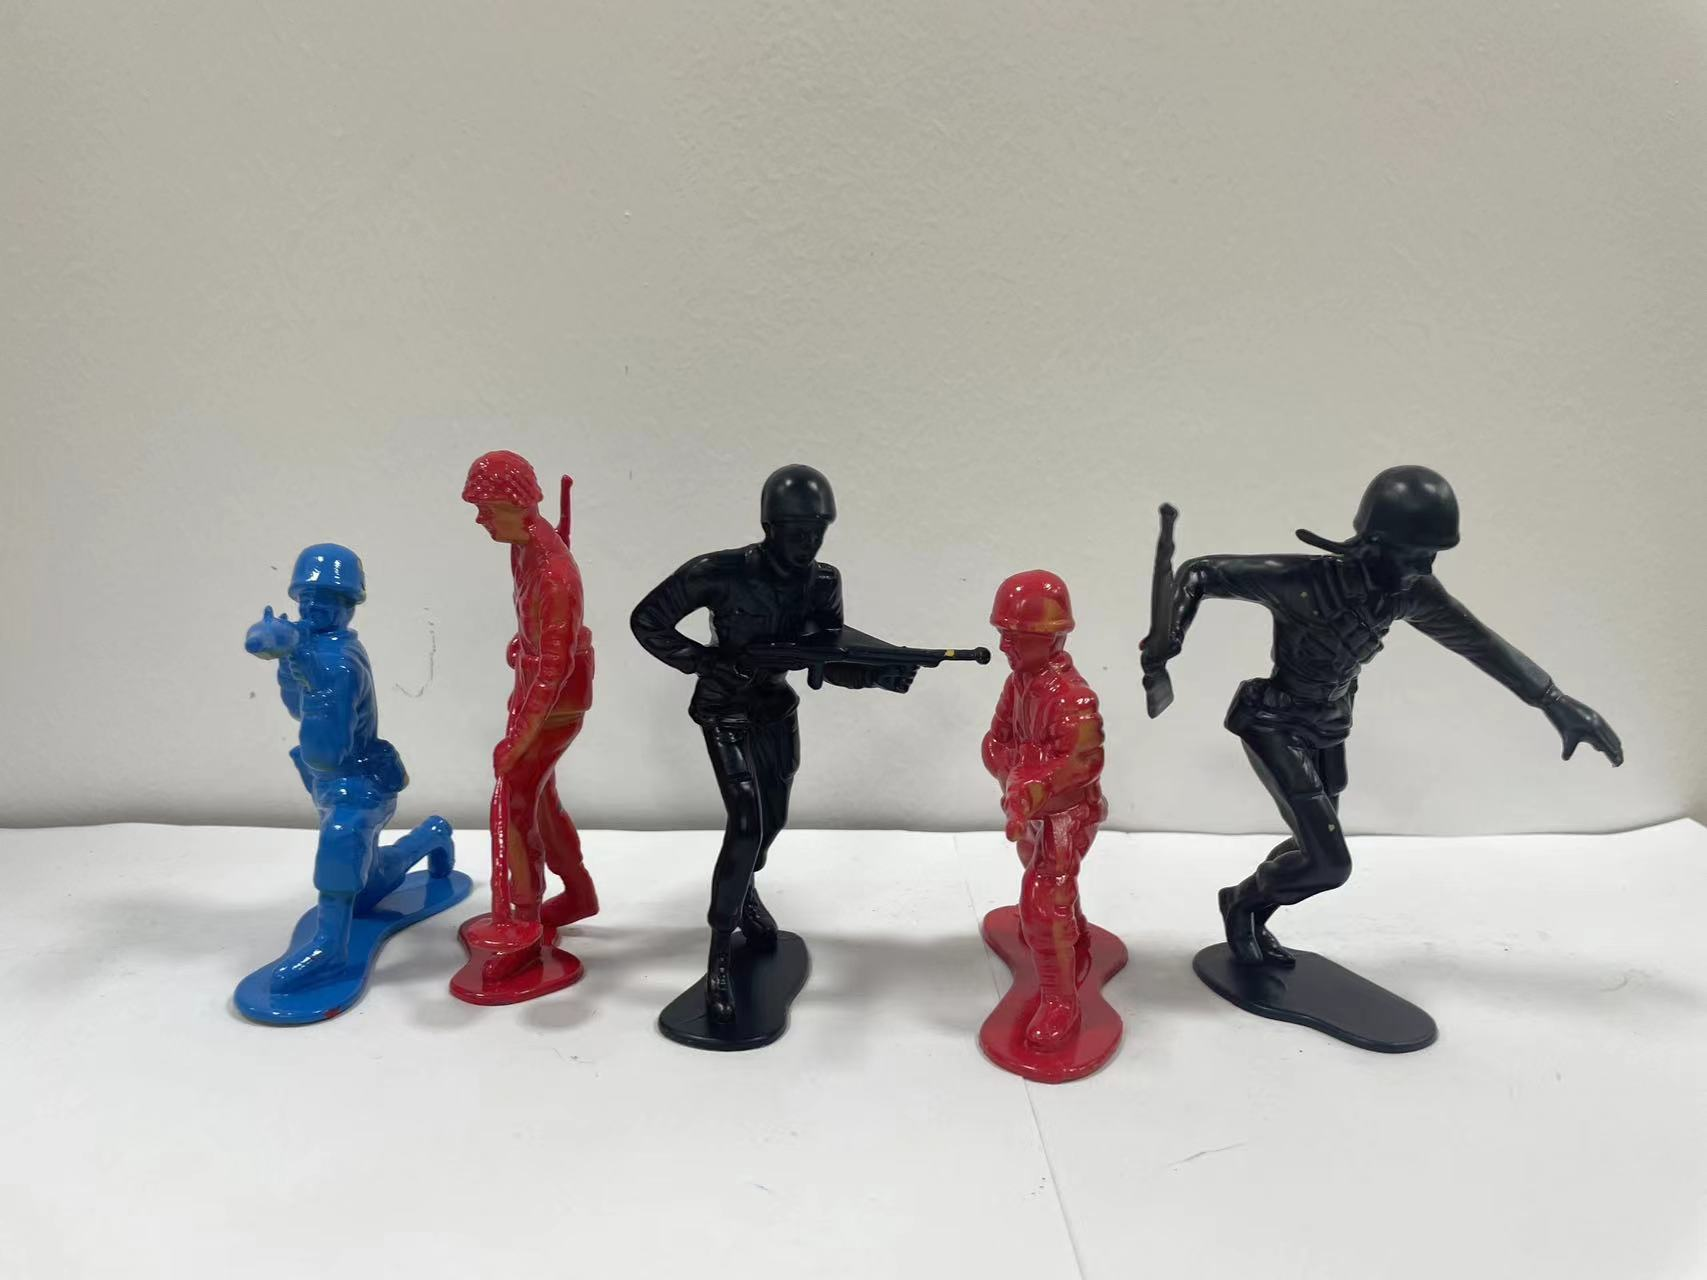black: (1140, 382, 1620, 1140), (628, 428, 958, 1116)
blue: (133, 460, 457, 1077)
red: (961, 519, 1134, 1146), (452, 428, 613, 1072)
